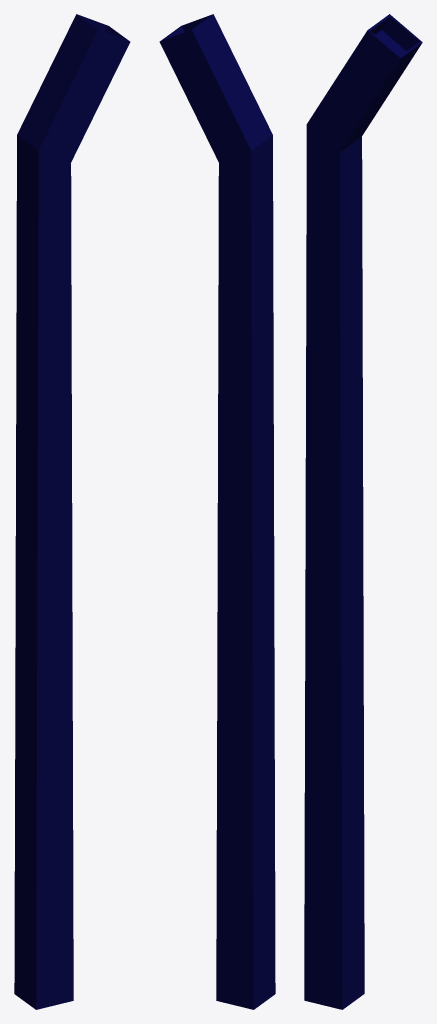
The model's file is FencePostDirek.fbx.
The picture shows the model from 3 angles, left to right: view 1: azimuth 30°, elevation 25°; view 2: azimuth 150°, elevation 25°; view 3: azimuth 330°, elevation 25°; orthographic projection. The views are drawn at different scales.
Visible parts, largest first — view 1: Cube.003; view 2: Cube.003; view 3: Cube.003.
Boxes of the visible parts, x1,y1,x2,y2 form: Cube.003: (14, 14, 130, 1009); Cube.003: (159, 14, 275, 1009); Cube.003: (304, 14, 422, 1009).
Bounding box in the file's own units: 103 × 1011 × 41.16.
